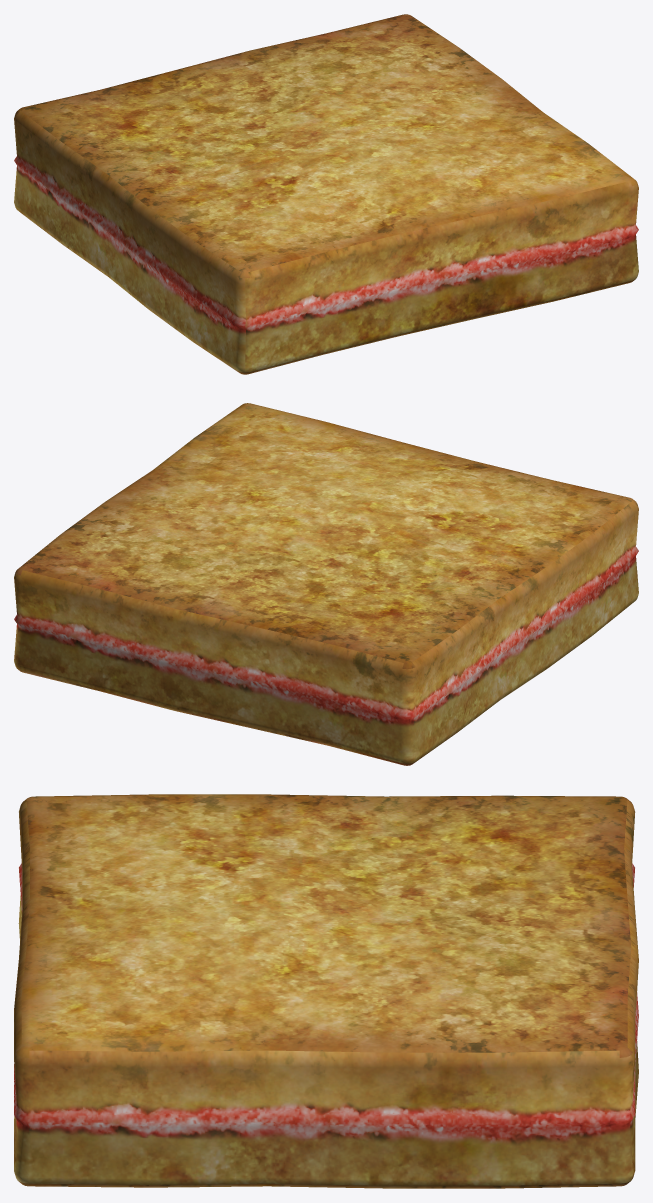
File: Tile-Blank.FBX
3 views of the same model, one above another, from view 1: azimuth 30°, elevation 25°; view 2: azimuth 150°, elevation 25°; view 3: azimuth 270°, elevation 25° (orthographic). The views are drawn at different scales.
Visible parts, largest first — view 1: Tile-Cake; view 2: Tile-Cake; view 3: Tile-Cake.
Boxes of the visible parts, left/top/right/bottom form: Tile-Cake: left=14, top=14, right=638, bottom=374; Tile-Cake: left=14, top=403, right=638, bottom=765; Tile-Cake: left=14, top=794, right=638, bottom=1188.
Bounding box in the file's own units: 40.64 × 11.92 × 40.56.
